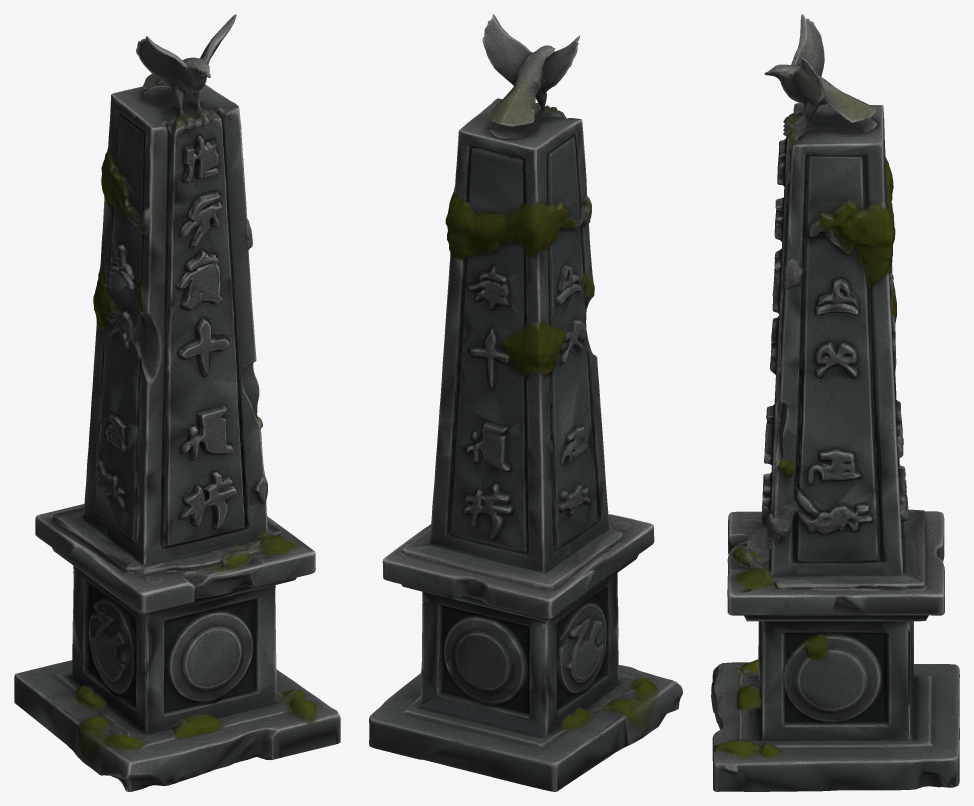
The model's file is CotMocDa_DongSon.fbx.
3 views of the same model, side by side, from view 1: azimuth 30°, elevation 25°; view 2: azimuth 150°, elevation 25°; view 3: azimuth 270°, elevation 25° (orthographic). The views are drawn at different scales.
Visible parts, largest first — view 1: Mesh_0; view 2: Mesh_0; view 3: Mesh_0.
Part boxes in pixels (box(x1,y1,x2,y2)): Mesh_0: box(14, 14, 340, 791); Mesh_0: box(369, 14, 682, 791); Mesh_0: box(711, 14, 959, 791).
Size of the model in its own units: 61.63 by 190 by 60.76.
Materials: 1 (1 with a texture image).
